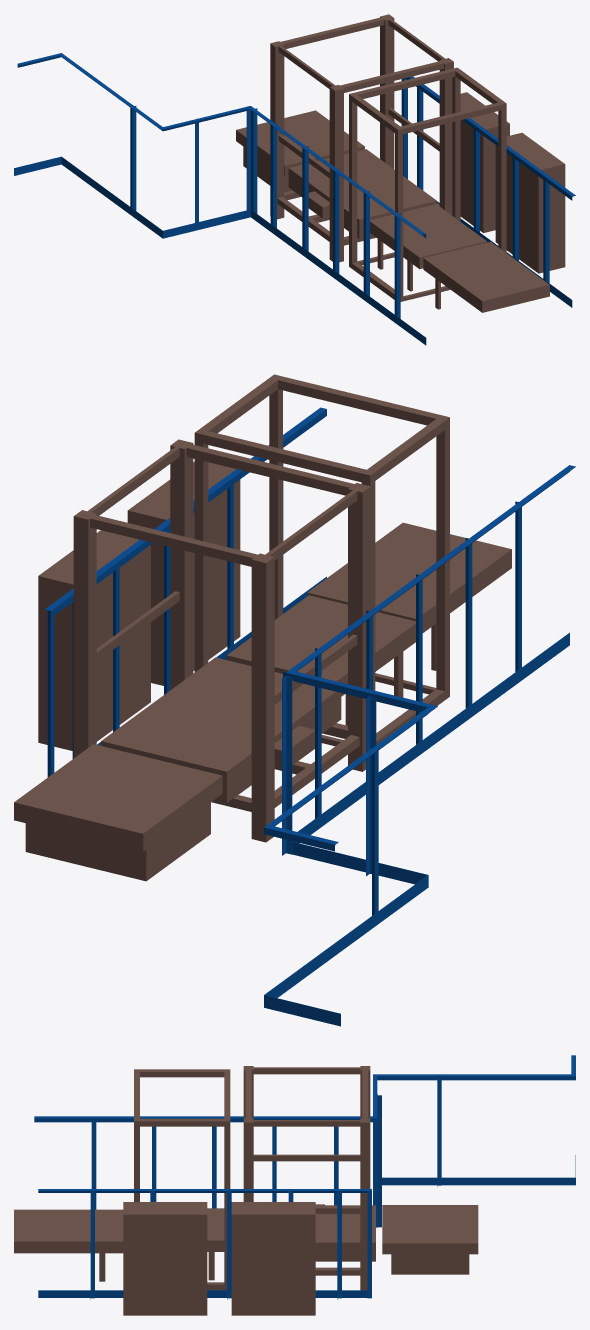
File: GCC-AAV-13220-30.nwd(128).fbx
3 views of the same model, one above another, from view 1: azimuth 30°, elevation 25°; view 2: azimuth 150°, elevation 25°; view 3: azimuth 270°, elevation 25° (orthographic). The views are drawn at different scales.
Visible parts, largest first — view 1: BOX 2 of SUBEQUIPMENT 59 of EQUIPMENT /721-U-102, BOX 30 of SUBEQUIPMENT 45 of EQUIPMENT /721-U-102, BOX 1 of SUBEQUIPMENT 54 of EQUIPMENT /721-U-102, BOX 1 of SUBEQUIPMENT 53 of EQUIPMENT /721-U-102, BOX 1 of SUBEQUIPMENT 59 of EQUIPMENT /721-U-102, GENSEC 14 of TMPLATE 1 of SUBEQUIPMENT 15 of EQUIPMENT /721-, BOX 1 of SUBEQUIPMENT 55 of EQUIPMENT /721-U-102, GENSEC 15 of TMPLATE 1 of SUBEQUIPMENT 15 of EQUIPMENT /721-, BOX 14 of SUBEQUIPMENT 54 of EQUIPMENT /721-U-102, BOX 12 of SUBEQUIPMENT 54 of EQUIPMENT /721-U-102, BOX 15 of SUBEQUIPMENT 54 of EQUIPMENT /721-U-102, BOX 13 of SUBEQUIPMENT 54 of EQUIPMENT /721-U-102 (+30 smaller); view 2: BOX 1 of SUBEQUIPMENT 54 of EQUIPMENT /721-U-102, BOX 1 of SUBEQUIPMENT 55 of EQUIPMENT /721-U-102, BOX 1 of SUBEQUIPMENT 59 of EQUIPMENT /721-U-102, BOX 30 of SUBEQUIPMENT 45 of EQUIPMENT /721-U-102, GENSEC 14 of TMPLATE 1 of SUBEQUIPMENT 15 of EQUIPMENT /721-, BOX 2 of SUBEQUIPMENT 59 of EQUIPMENT /721-U-102, BOX 15 of SUBEQUIPMENT 54 of EQUIPMENT /721-U-102, BOX 1 of SUBEQUIPMENT 53 of EQUIPMENT /721-U-102, GENSEC 15 of TMPLATE 1 of SUBEQUIPMENT 15 of EQUIPMENT /721-, BOX 2 of SUBEQUIPMENT 55 of EQUIPMENT /721-U-102, BOX 13 of SUBEQUIPMENT 54 of EQUIPMENT /721-U-102, BOX 12 of SUBEQUIPMENT 54 of EQUIPMENT /721-U-102 (+28 smaller); view 3: BOX 1 of SUBEQUIPMENT 59 of EQUIPMENT /721-U-102, BOX 2 of SUBEQUIPMENT 59 of EQUIPMENT /721-U-102, BOX 1 of SUBEQUIPMENT 55 of EQUIPMENT /721-U-102, BOX 30 of SUBEQUIPMENT 45 of EQUIPMENT /721-U-102, GENSEC 15 of TMPLATE 1 of SUBEQUIPMENT 15 of EQUIPMENT /721-, BOX 1 of SUBEQUIPMENT 54 of EQUIPMENT /721-U-102, GENSEC 14 of TMPLATE 1 of SUBEQUIPMENT 15 of EQUIPMENT /721-, BOX 2 of SUBEQUIPMENT 55 of EQUIPMENT /721-U-102, BOX 13 of SUBEQUIPMENT 54 of EQUIPMENT /721-U-102, GENSEC 9 of TMPLATE 1 of SUBEQUIPMENT 23 of EQUIPMENT /721-U, GENSEC 8 of TMPLATE 1 of SUBEQUIPMENT 23 of EQUIPMENT /721-U, BOX 12 of SUBEQUIPMENT 54 of EQUIPMENT /721-U-102 (+20 smaller).
Part boxes in pixels (box(x1,y1,x2,y2)): BOX 2 of SUBEQUIPMENT 59 of EQUIPMENT /721-U-102: box(495, 132, 565, 273); BOX 30 of SUBEQUIPMENT 45 of EQUIPMENT /721-U-102: box(423, 241, 549, 312); BOX 1 of SUBEQUIPMENT 54 of EQUIPMENT /721-U-102: box(288, 149, 436, 238); BOX 1 of SUBEQUIPMENT 53 of EQUIPMENT /721-U-102: box(370, 204, 486, 269); BOX 1 of SUBEQUIPMENT 59 of EQUIPMENT /721-U-102: box(460, 92, 509, 232); GENSEC 14 of TMPLATE 1 of SUBEQUIPMENT 15 of EQUIPMENT /721-: box(14, 156, 426, 345); BOX 1 of SUBEQUIPMENT 55 of EQUIPMENT /721-U-102: box(236, 110, 364, 176); GENSEC 15 of TMPLATE 1 of SUBEQUIPMENT 15 of EQUIPMENT /721-: box(17, 53, 426, 237); BOX 14 of SUBEQUIPMENT 54 of EQUIPMENT /721-U-102: box(329, 85, 343, 262); BOX 12 of SUBEQUIPMENT 54 of EQUIPMENT /721-U-102: box(439, 58, 453, 215); BOX 15 of SUBEQUIPMENT 54 of EQUIPMENT /721-U-102: box(270, 41, 284, 219); BOX 13 of SUBEQUIPMENT 54 of EQUIPMENT /721-U-102: box(380, 14, 394, 168); BOX 1 of SUBEQUIPMENT 54 of EQUIPMENT /721-U-102: box(101, 657, 341, 803); BOX 1 of SUBEQUIPMENT 55 of EQUIPMENT /721-U-102: box(14, 744, 222, 851); BOX 1 of SUBEQUIPMENT 59 of EQUIPMENT /721-U-102: box(38, 530, 150, 750); BOX 30 of SUBEQUIPMENT 45 of EQUIPMENT /721-U-102: box(307, 522, 511, 632); GENSEC 14 of TMPLATE 1 of SUBEQUIPMENT 15 of EQUIPMENT /721-: box(264, 632, 569, 1026); BOX 2 of SUBEQUIPMENT 59 of EQUIPMENT /721-U-102: box(127, 462, 240, 685); BOX 15 of SUBEQUIPMENT 54 of EQUIPMENT /721-U-102: box(251, 553, 274, 842); BOX 1 of SUBEQUIPMENT 53 of EQUIPMENT /721-U-102: box(226, 595, 415, 696); GENSEC 15 of TMPLATE 1 of SUBEQUIPMENT 15 of EQUIPMENT /721-: box(264, 465, 575, 851); BOX 2 of SUBEQUIPMENT 55 of EQUIPMENT /721-U-102: box(25, 802, 210, 881); BOX 13 of SUBEQUIPMENT 54 of EQUIPMENT /721-U-102: box(73, 510, 96, 758); BOX 12 of SUBEQUIPMENT 54 of EQUIPMENT /721-U-102: box(170, 439, 193, 689); BOX 1 of SUBEQUIPMENT 59 of EQUIPMENT /721-U-102: box(231, 1202, 315, 1315); BOX 2 of SUBEQUIPMENT 59 of EQUIPMENT /721-U-102: box(123, 1202, 207, 1315); BOX 1 of SUBEQUIPMENT 55 of EQUIPMENT /721-U-102: box(382, 1205, 478, 1254); BOX 30 of SUBEQUIPMENT 45 of EQUIPMENT /721-U-102: box(14, 1209, 123, 1253); GENSEC 15 of TMPLATE 1 of SUBEQUIPMENT 15 of EQUIPMENT /721-: box(34, 1055, 575, 1122); BOX 1 of SUBEQUIPMENT 54 of EQUIPMENT /721-U-102: box(315, 1205, 375, 1261); GENSEC 14 of TMPLATE 1 of SUBEQUIPMENT 15 of EQUIPMENT /721-: box(382, 1155, 575, 1185); BOX 2 of SUBEQUIPMENT 55 of EQUIPMENT /721-U-102: box(391, 1254, 469, 1274); BOX 13 of SUBEQUIPMENT 54 of EQUIPMENT /721-U-102: box(360, 1118, 370, 1290); GENSEC 9 of TMPLATE 1 of SUBEQUIPMENT 23 of EQUIPMENT /721-U: box(38, 1189, 371, 1192); GENSEC 8 of TMPLATE 1 of SUBEQUIPMENT 23 of EQUIPMENT /721-U: box(38, 1290, 367, 1297); BOX 12 of SUBEQUIPMENT 54 of EQUIPMENT /721-U-102: box(243, 1118, 253, 1201).
Bounding box in the file's own units: 237 × 122 × 368.
